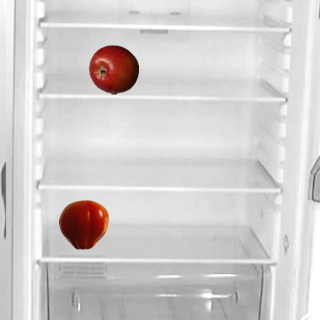Apple Braeburn: (88, 44, 138, 94)
Tomato 1: (58, 199, 108, 249)
